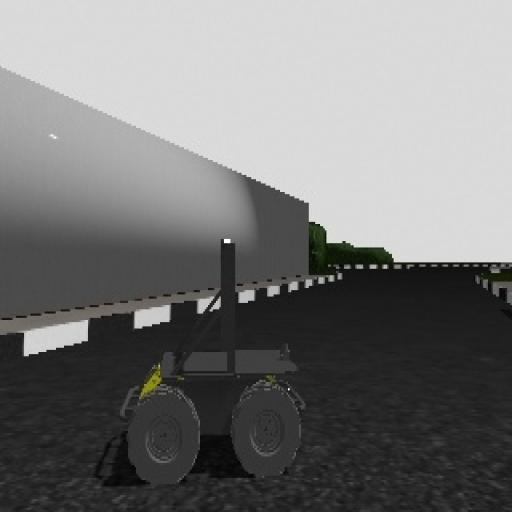huskya200: (110, 205, 320, 495)
